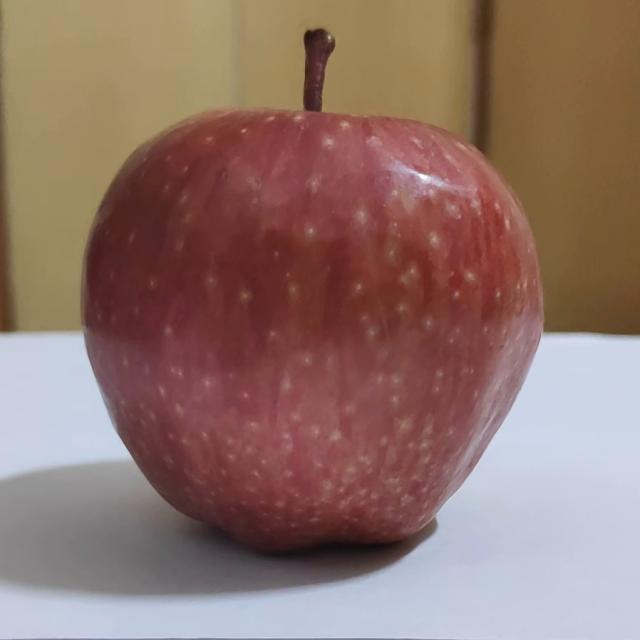apple: (76, 25, 548, 559)
